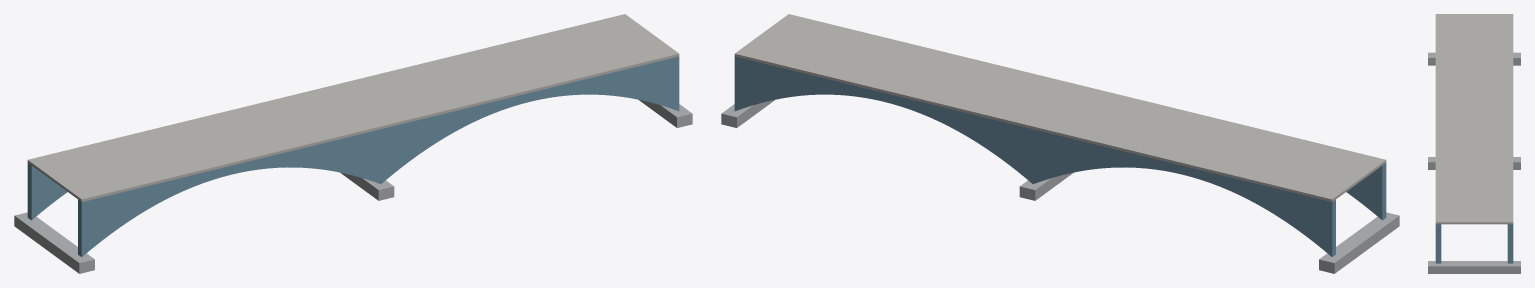
Rendered from bridge.glb.
3 views of the same model, side by side, from view 1: azimuth 30°, elevation 25°; view 2: azimuth 150°, elevation 25°; view 3: azimuth 270°, elevation 25° (orthographic). The views are drawn at different scales.
Parts seen in each view (by area): view 1: deck_001, arch_wall_001, arch_wall_003, bearing_block_001, arch_wall_002, bearing_block_003, bearing_block_002; view 2: deck_001, arch_wall_002, arch_wall_004, bearing_block_001, arch_wall_001, bearing_block_003, bearing_block_002; view 3: deck_001, bearing_block_003, arch_wall_003, arch_wall_004, bearing_block_001, bearing_block_002.
Part boxes in pixels (x1,y1,x2,y2): deck_001: (27,14,679,201); arch_wall_001: (78,129,380,256); arch_wall_003: (381,56,679,183); bearing_block_001: (14,212,94,273); arch_wall_002: (27,163,67,220); bearing_block_003: (638,99,692,127); bearing_block_002: (340,172,394,200); deck_001: (734,14,1386,201); arch_wall_002: (1033,129,1335,256); arch_wall_004: (734,56,1032,183); bearing_block_001: (1319,212,1399,273); arch_wall_001: (1346,163,1386,220); bearing_block_003: (721,99,775,127); bearing_block_002: (1019,172,1073,200); deck_001: (1435,14,1513,224); bearing_block_003: (1428,261,1520,273); arch_wall_003: (1435,224,1441,263); arch_wall_004: (1507,224,1513,263); bearing_block_001: (1428,52,1520,65); bearing_block_002: (1428,157,1520,169).
Size of the model in its own units: 35.7 by 3.82 by 6.56.
